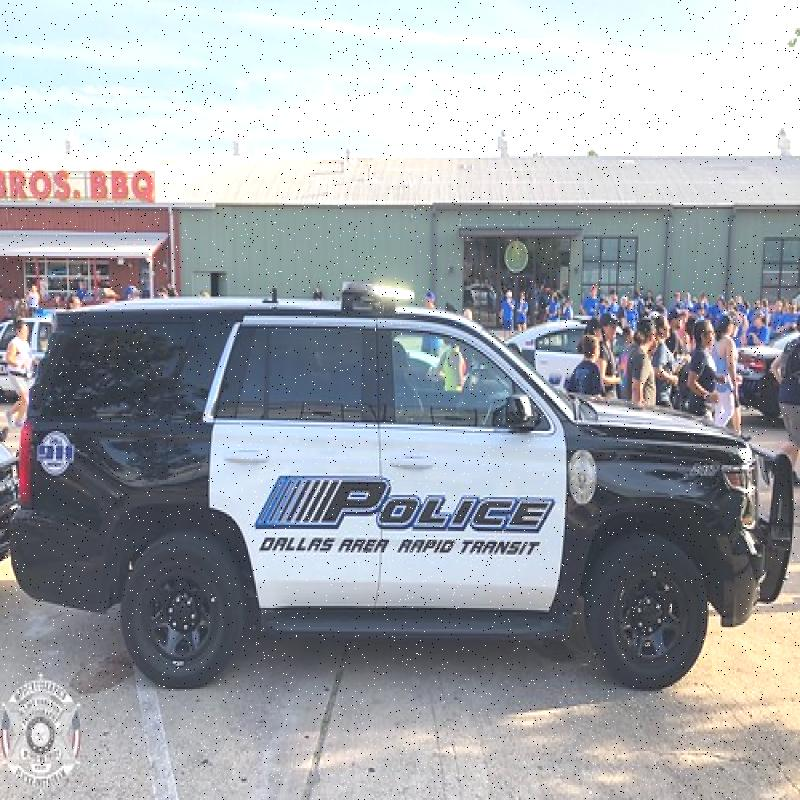AmbulanceSiren: (346, 272, 424, 314)
